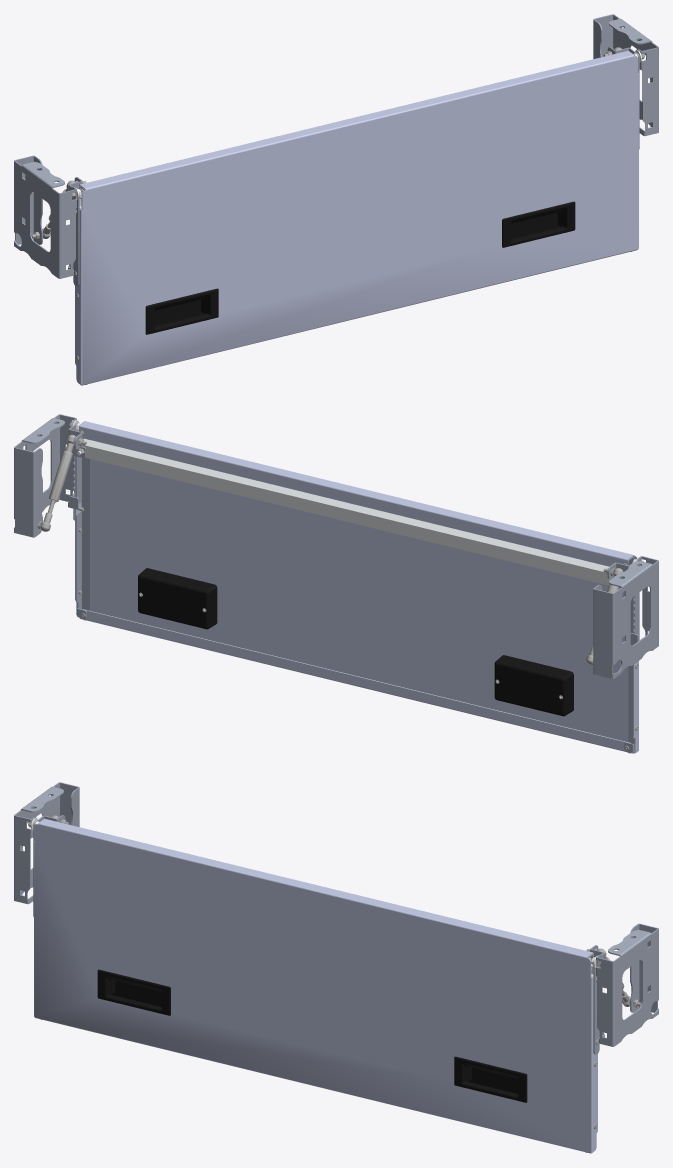
Rendered from KUD40900.glb.
3 renders of one model, top to bottom at view 1: azimuth 30°, elevation 25°; view 2: azimuth 150°, elevation 25°; view 3: azimuth 330°, elevation 25°, orthographic.
Visible parts, largest first — view 1: RVT_A-XUD40900-2/A-XUD40900CRP-2, A-ZUC00400CRS-1/A-ZUC00400CRS-1, A-ZUC00400CRD-1/A-ZUC00400CRD-1, HPH00002-1/HPH00002FRN-1, HPH00002-2/HPH00002FRN-1, HPH00002-2/HPH00002CRP-1, HPH00002-1/HPH00002CRP-1; view 2: RVT_A-XUD40900-2/A-XUD40900CRP-2, TB20-2, A-ZUC00400CRS-1/A-ZUC00400CRS-1, A-ZUC00400CRD-1/A-ZUC00400CRD-1, HPH00002-1/HPH00002CRP-1, HPH00002-2/HPH00002CRP-1, RVT_A-XUD40900-2/A-XUD00900RFD-1, A-ZUC00400CRD-1/MLG.PRTF.STABILUS-1, RVT_A-XUD40900-2/A-XUD00900RFS-1; view 3: RVT_A-XUD40900-2/A-XUD40900CRP-2, A-ZUC00400CRD-1/A-ZUC00400CRD-1, A-ZUC00400CRS-1/A-ZUC00400CRS-1, HPH00002-2/HPH00002FRN-1, HPH00002-1/HPH00002FRN-1, HPH00002-1/HPH00002CRP-1, HPH00002-2/HPH00002CRP-1.
Part boxes in pixels (x1,y1,x2,y2): RVT_A-XUD40900-2/A-XUD40900CRP-2: [75, 50, 638, 385]; A-ZUC00400CRS-1/A-ZUC00400CRS-1: [14, 155, 76, 278]; A-ZUC00400CRD-1/A-ZUC00400CRD-1: [593, 14, 658, 136]; HPH00002-1/HPH00002FRN-1: [502, 201, 575, 247]; HPH00002-2/HPH00002FRN-1: [145, 288, 218, 334]; HPH00002-2/HPH00002CRP-1: [154, 299, 203, 325]; HPH00002-1/HPH00002CRP-1: [511, 212, 559, 238]; RVT_A-XUD40900-2/A-XUD40900CRP-2: [75, 421, 638, 753]; TB20-2: [82, 438, 610, 585]; A-ZUC00400CRS-1/A-ZUC00400CRS-1: [593, 556, 658, 678]; A-ZUC00400CRD-1/A-ZUC00400CRD-1: [14, 414, 78, 537]; HPH00002-1/HPH00002CRP-1: [138, 568, 217, 629]; HPH00002-2/HPH00002CRP-1: [494, 655, 573, 716]; RVT_A-XUD40900-2/A-XUD00900RFD-1: [76, 438, 90, 618]; A-ZUC00400CRD-1/MLG.PRTF.STABILUS-1: [49, 434, 86, 501]; RVT_A-XUD40900-2/A-XUD00900RFS-1: [624, 556, 634, 752]; RVT_A-XUD40900-2/A-XUD40900CRP-2: [34, 818, 597, 1153]; A-ZUC00400CRD-1/A-ZUC00400CRD-1: [596, 923, 658, 1046]; A-ZUC00400CRS-1/A-ZUC00400CRS-1: [14, 782, 79, 904]; HPH00002-2/HPH00002FRN-1: [97, 969, 170, 1015]; HPH00002-1/HPH00002FRN-1: [454, 1056, 527, 1102]; HPH00002-1/HPH00002CRP-1: [469, 1067, 518, 1093]; HPH00002-2/HPH00002CRP-1: [113, 980, 161, 1006].
Size of the model in its own units: 1.01 by 0.3207 by 0.1385.
